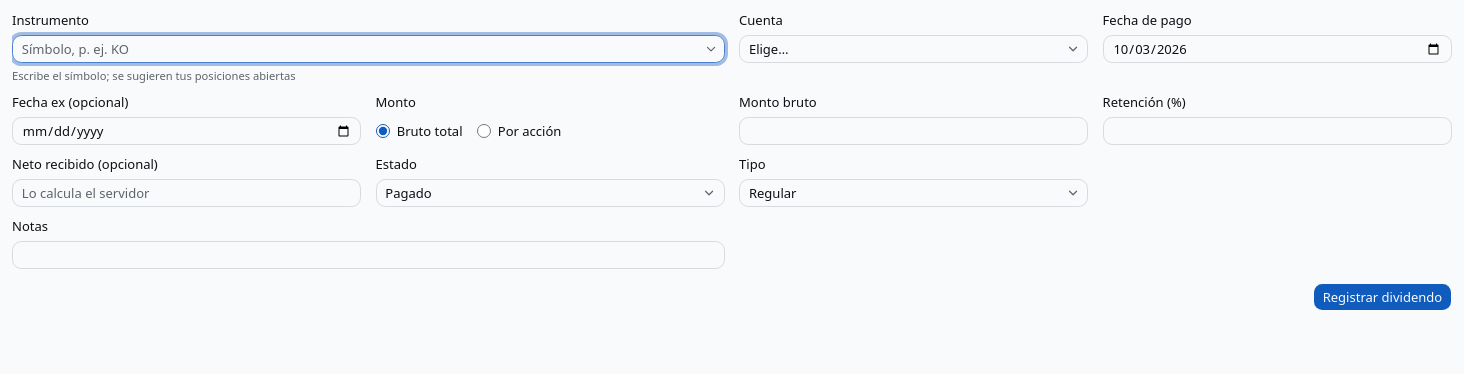
Test: DividendForm › valida montos antes de enviar
The width and height of the screenshot is (1464, 374).
In the dropdown labelled "Instrumento": (357, 49) [13,35,700,63], type "KO"
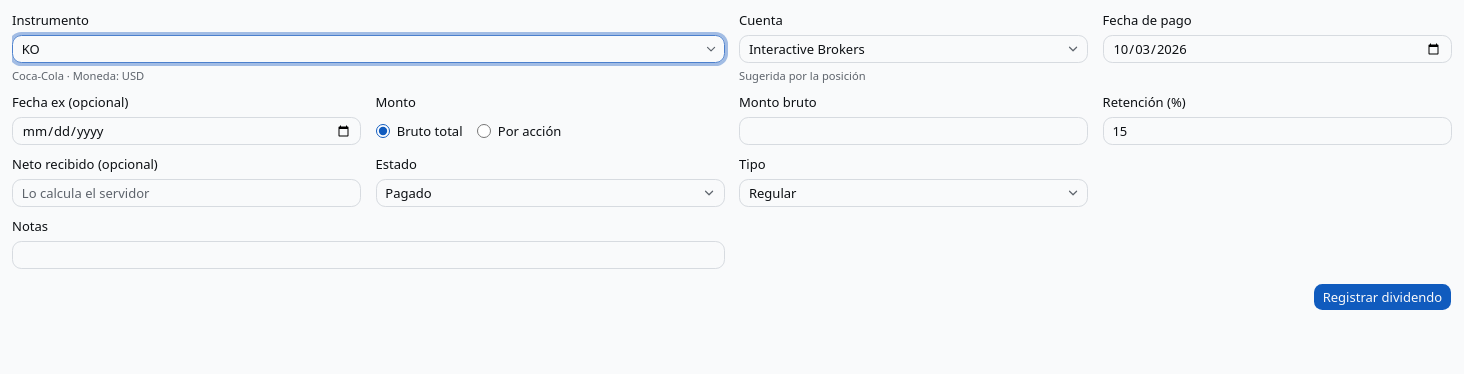
In the date field labelled "Fecha de pago": (1277, 49) [1103,35,1452,63], type "2026-09-15"
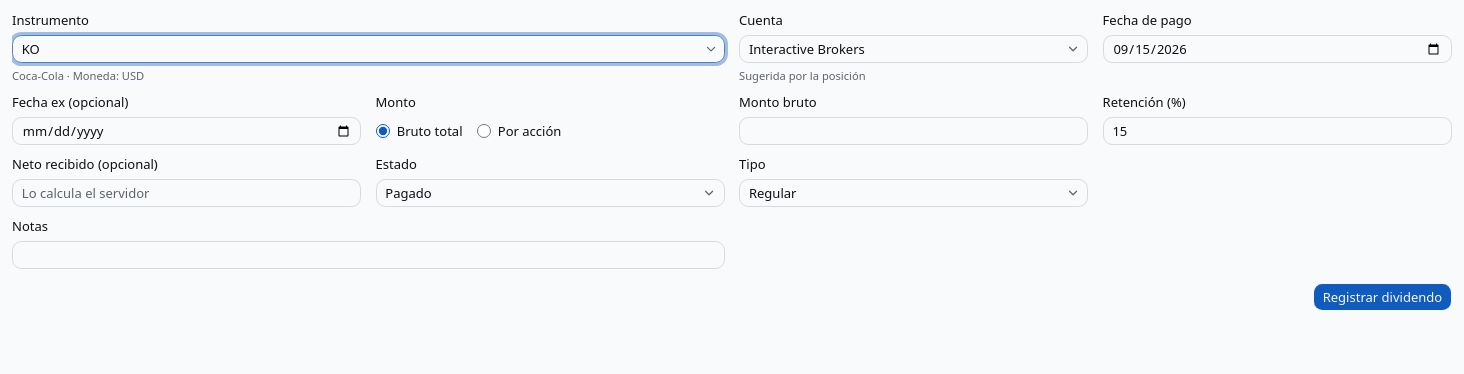
In the field labelled "Monto bruto": (914, 131) [739,117,1088,145], type "12abc"
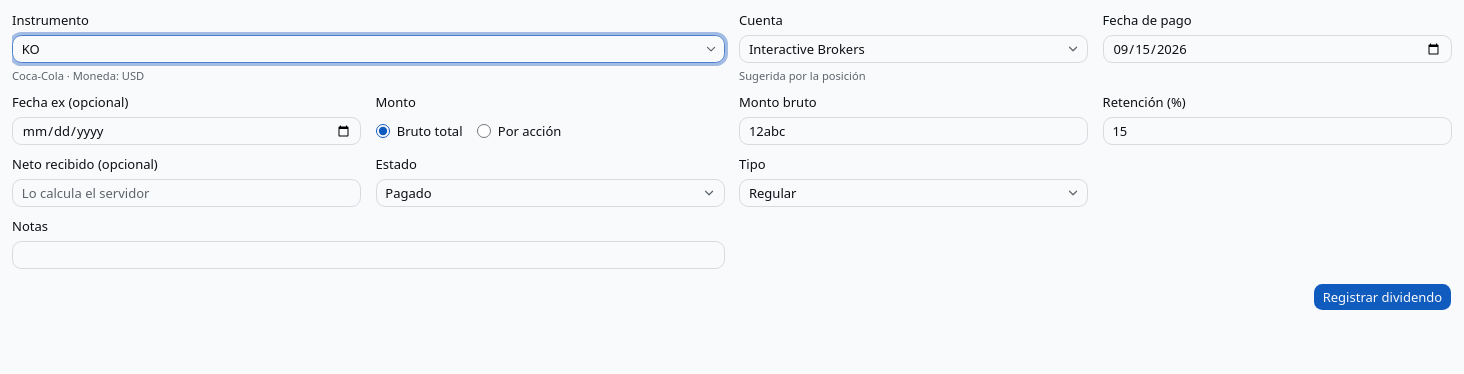
Click the button "Registrar dividendo": (1382, 297) [1313,283,1452,311]
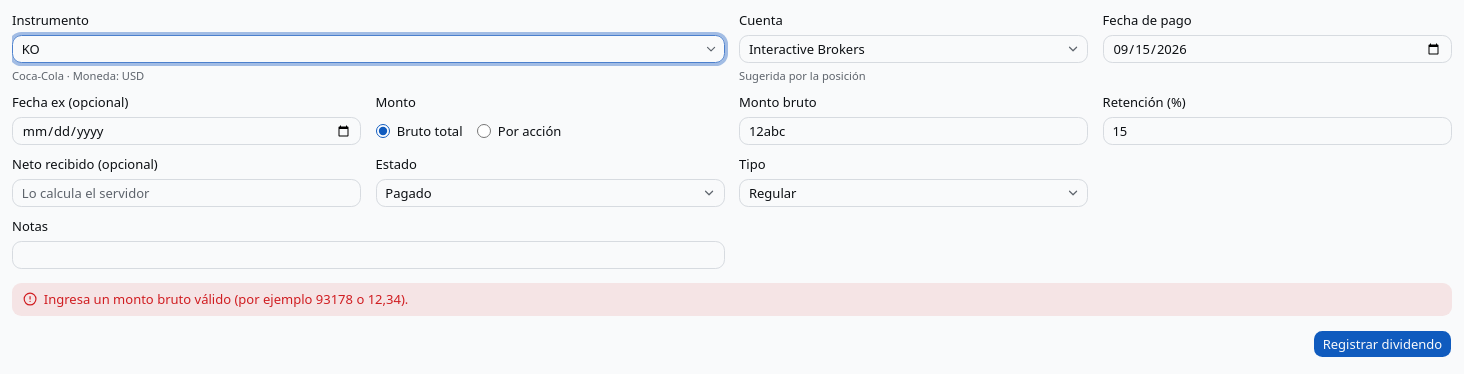
Now the message shows "monto bruto", box [44,290,408,308]
